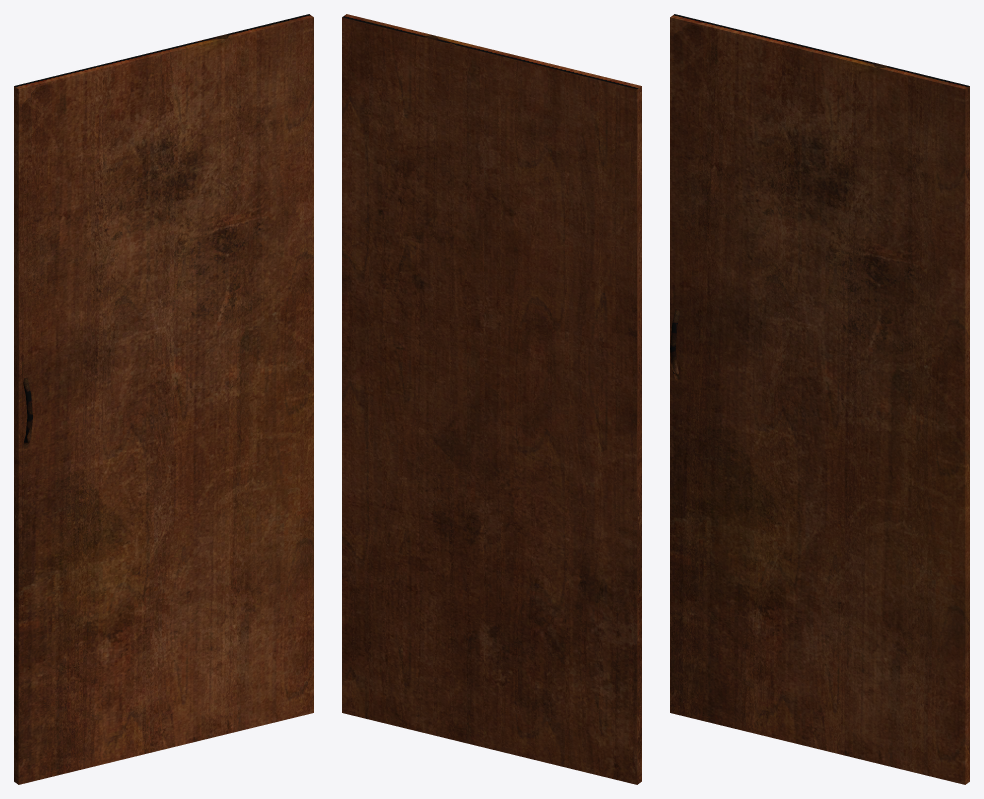
File: closetRightDoor02_a.FBX
3 renders of one model, left to right at view 1: azimuth 30°, elevation 25°; view 2: azimuth 150°, elevation 25°; view 3: azimuth 330°, elevation 25°, orthographic.
Visible parts, largest first — view 1: SM_ClosetRightDoor02; view 2: SM_ClosetRightDoor02; view 3: SM_ClosetRightDoor02.
Boxes of the visible parts, box(x1,y1,x2,y2) form: SM_ClosetRightDoor02: box(14, 14, 313, 784); SM_ClosetRightDoor02: box(342, 14, 641, 784); SM_ClosetRightDoor02: box(670, 14, 969, 784).
Bounding box in the file's own units: 67.05 × 151 × 3.99.
Materials: 1 (1 with a texture image).
